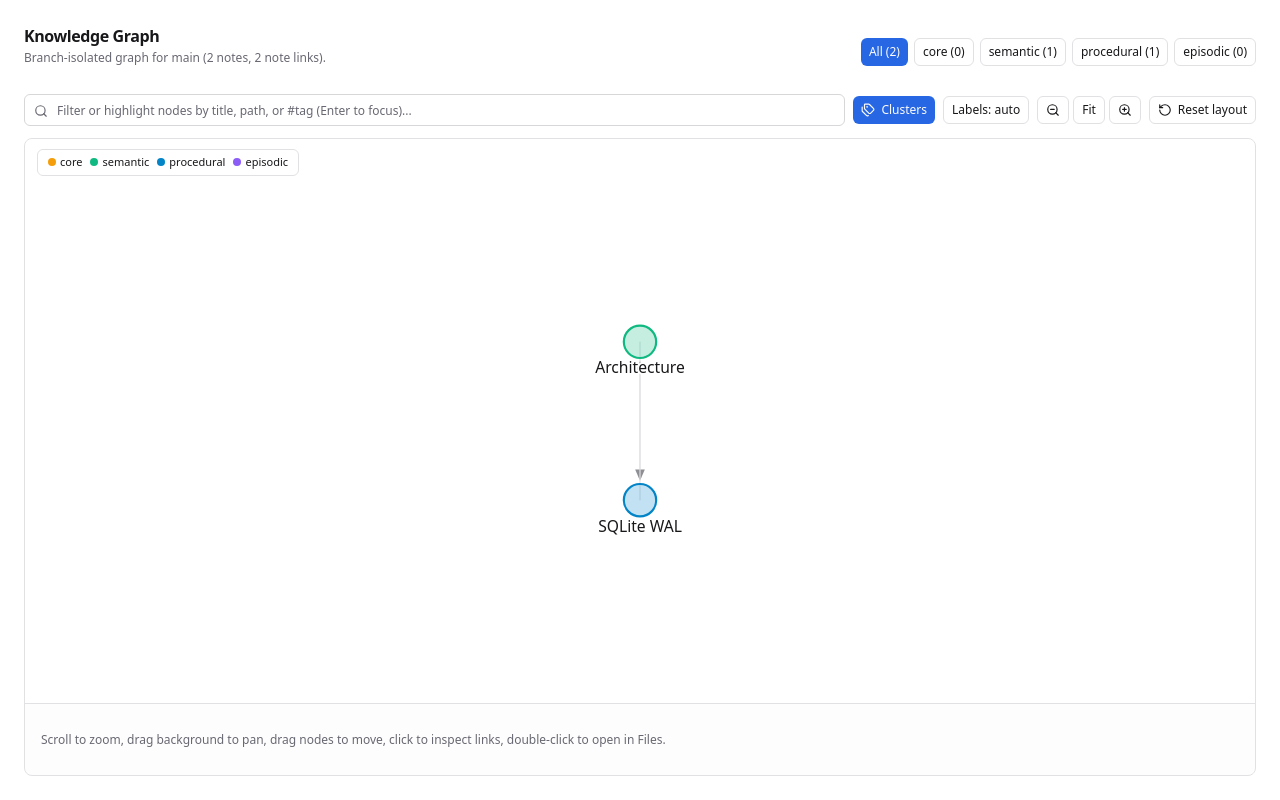
Scenario: Graph › renders nodes, filters by tier, inspects selection, and navigates to Files
The width and height of the screenshot is (1280, 800).
Later steps or results of the test are not shown.
Expected: the text "Architecture" is shown, [595,356,685,378]
Expected: the text "SQLite WAL" is shown, [598,515,682,537]
Click the button "procedural (1)" at (1120, 52), box [1072,38,1168,66]
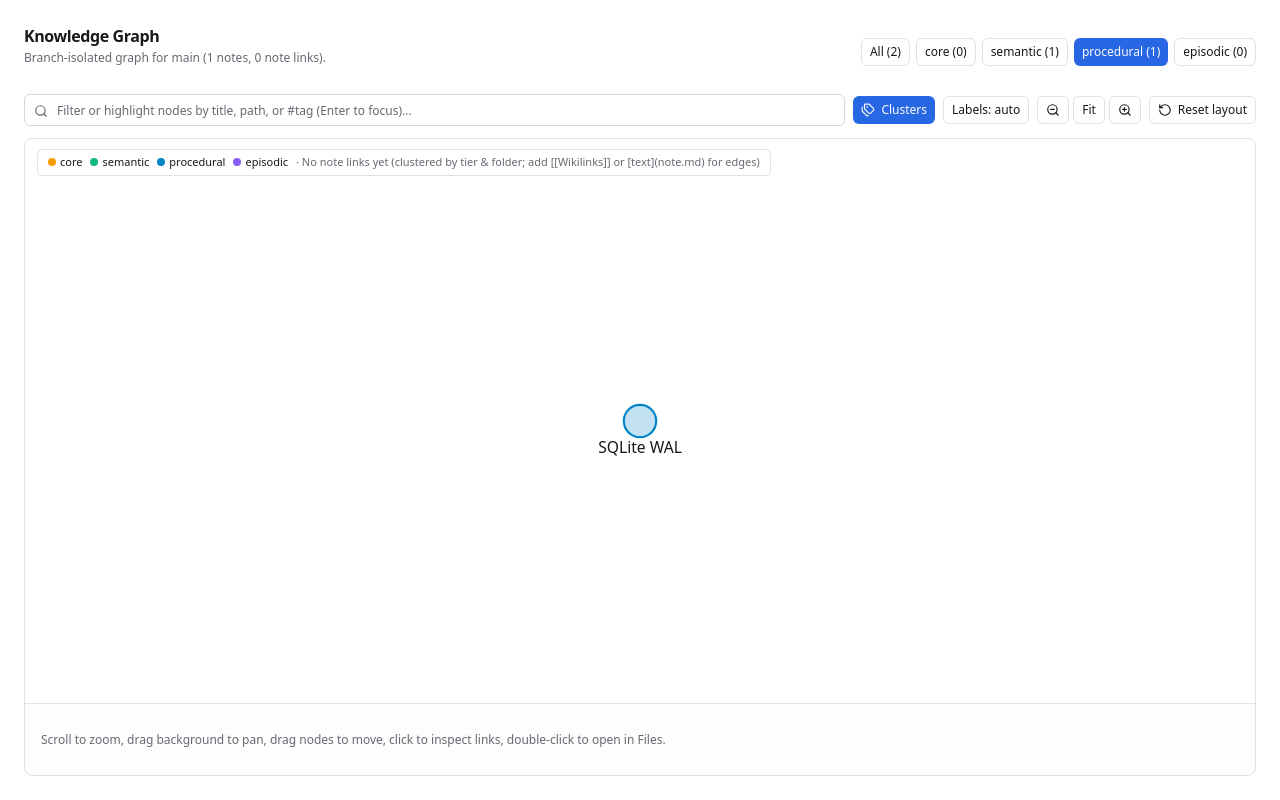
Expected: the text "SQLite WAL" is shown, [598,436,682,458]
Expected: the icon "Architecture" is gone
